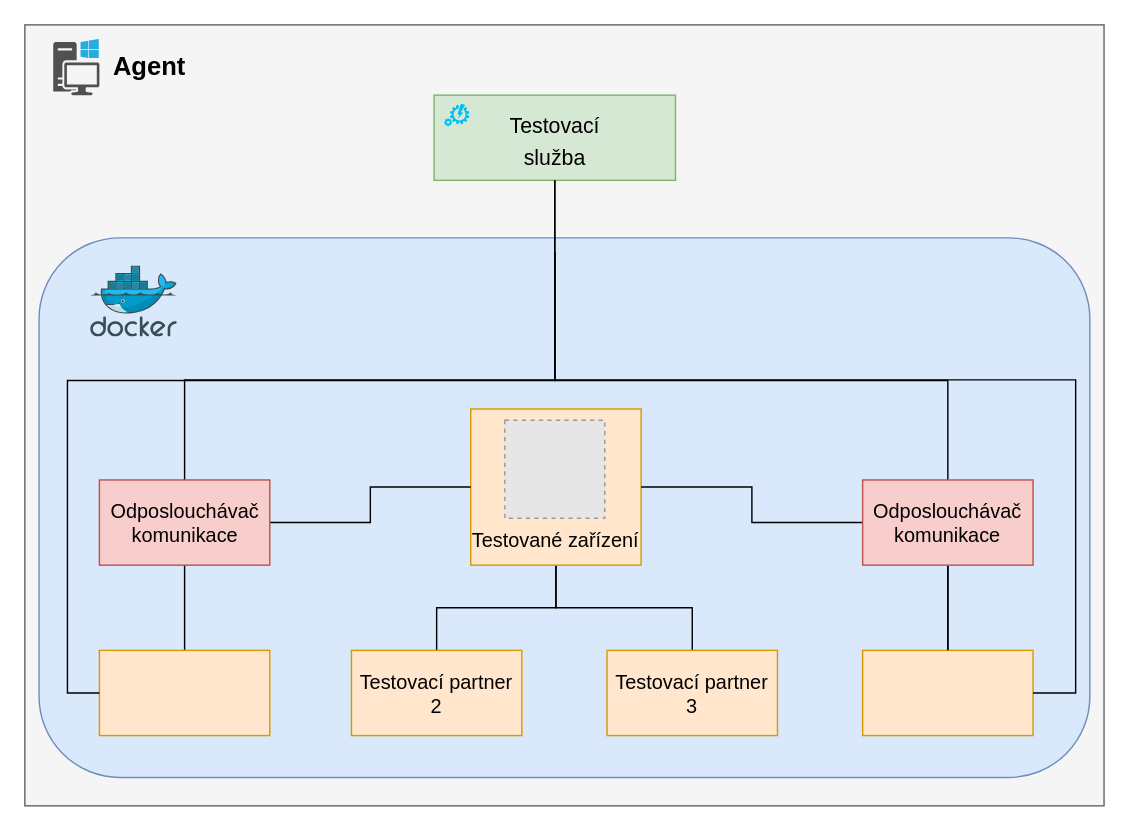
This 1129x831 diagram has some shape labels left out. Grey dashed boxes stand in for pictures. The shapes that lost their labels are listed below. From the top down, each one's box as (x1, y1, x2, y2) in pixels, then its label:
(98, 649, 270, 736): Testovací partner 1
(861, 649, 1033, 736): Testovací partner 4
